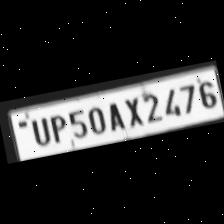0: (83, 102, 109, 136)
2: (138, 88, 163, 125)
4: (158, 84, 183, 120)
5: (64, 106, 90, 140)
6: (192, 76, 219, 111)
7: (176, 80, 198, 116)
A: (102, 97, 126, 133)
P: (45, 110, 69, 146)
U: (27, 114, 52, 148)
X: (120, 93, 144, 129)
